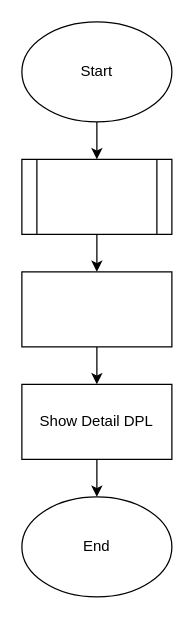
Image size: 194x619. Some labels were removed from this diagram. The box of each missing label's shape, as (x1, y1, x2, y2) in pixels:
Click on the DPL number: (21, 271, 172, 347)
View List DPL: (21, 158, 172, 234)
